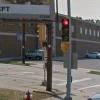Traffic light: (52, 11, 76, 65)
